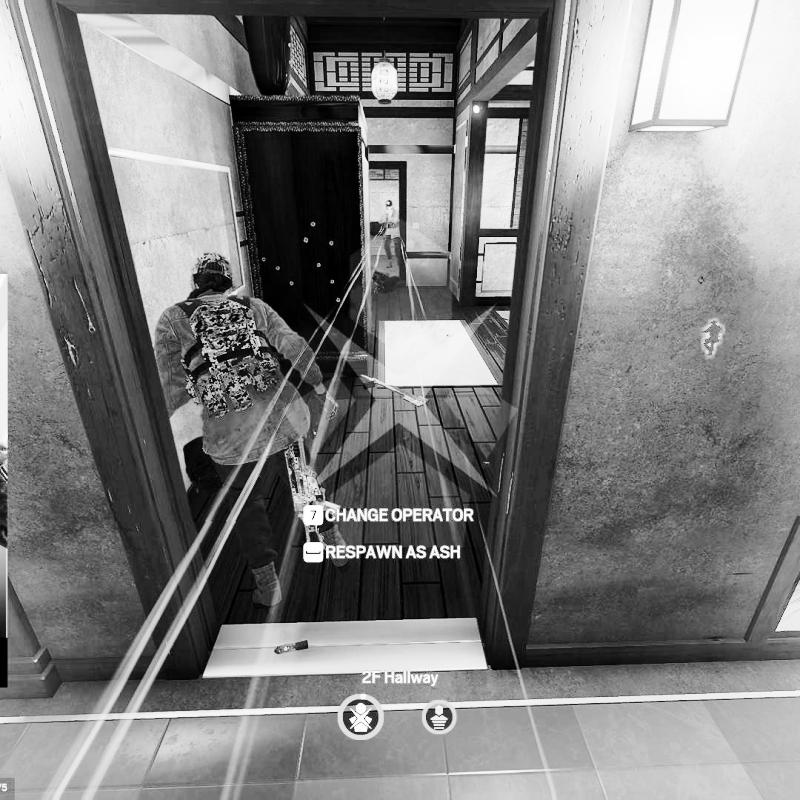Character: (156, 245, 356, 618), (380, 199, 403, 274)
Head: (187, 250, 236, 296), (384, 200, 395, 212)
